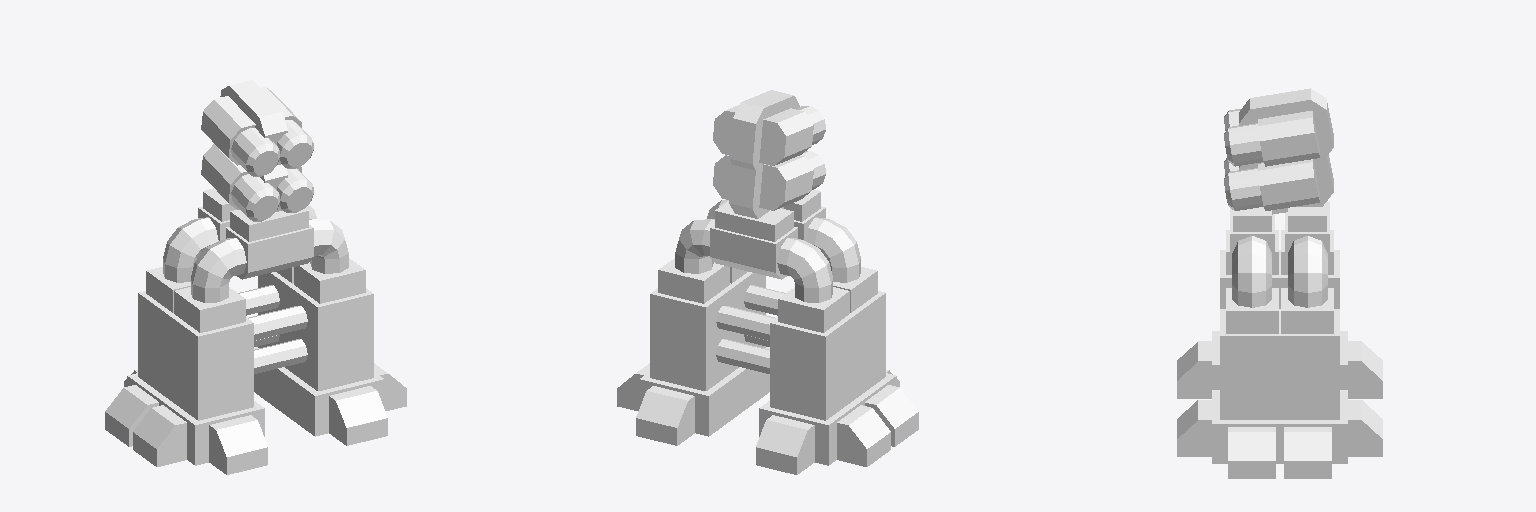
File: jump.obj
3 renders of one model, left to right at view 1: azimuth 30°, elevation 25°; view 2: azimuth 150°, elevation 25°; view 3: azimuth 270°, elevation 25°, orthographic.
Parts seen in each view (by area): view 1: base_base.001, head2_head1.002, head1; view 2: base_base.001, head2_head1.002, head1; view 3: base_base.001, head2_head1.002, head1.
Boxes of the visible parts, <box> form: base_base.001: <box>105,188,406,474</box>; head2_head1.002: <box>201,80,313,176</box>; head1: <box>201,144,313,221</box>; base_base.001: <box>617,189,918,474</box>; head2_head1.002: <box>713,90,825,170</box>; head1: <box>713,151,825,218</box>; base_base.001: <box>1177,202,1382,478</box>; head2_head1.002: <box>1224,88,1333,167</box>; head1: <box>1224,155,1333,214</box>.
Size of the model in its own units: 47.51 by 58.8 by 33.89.